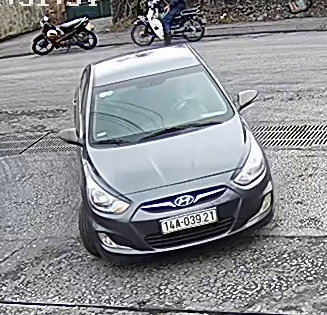vehicle plate: (154, 209, 222, 231)
